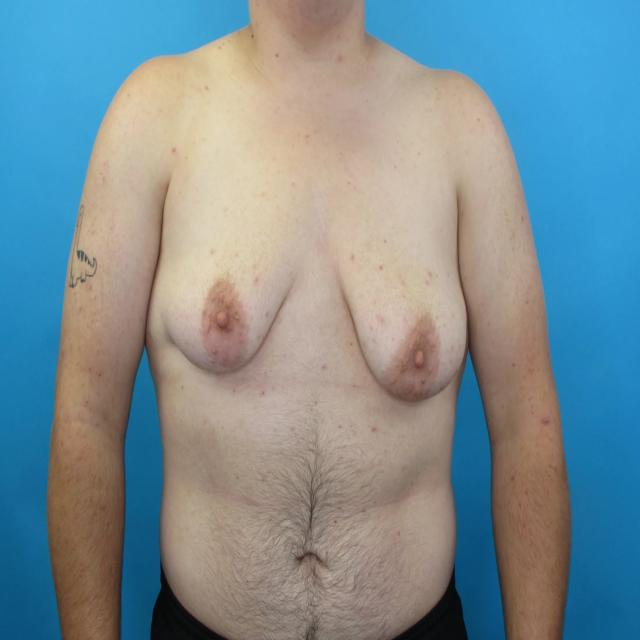Seno ileso: (150, 197, 312, 396), (321, 213, 474, 422)
